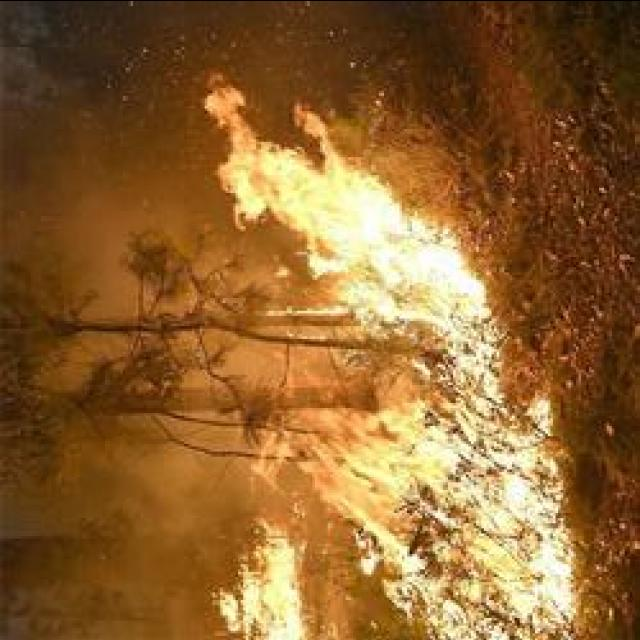fire: (318, 412, 415, 506), (352, 230, 459, 306), (236, 566, 300, 640), (311, 182, 388, 242), (267, 159, 322, 207)
smoke: (137, 450, 197, 522)
